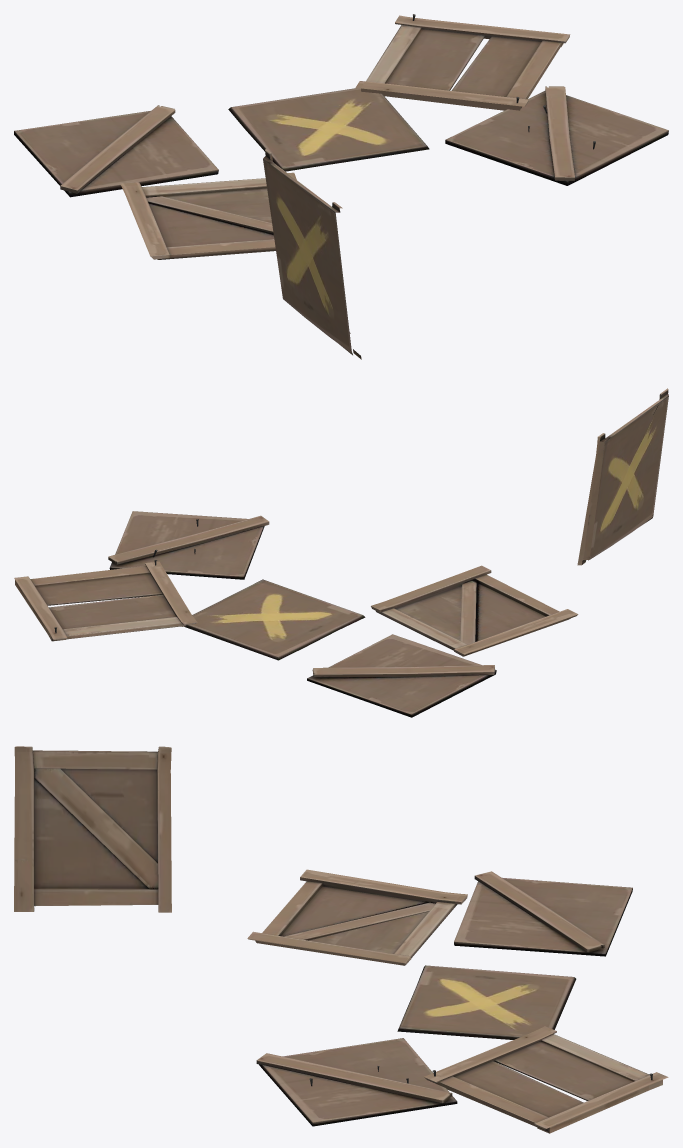
The picture shows the model from 3 angles, top to bottom: view 1: azimuth 30°, elevation 25°; view 2: azimuth 150°, elevation 25°; view 3: azimuth 270°, elevation 25°; orthographic projection. The views are drawn at different scales.
Parts seen in each view (by area): view 1: body0_model0_lod0_mesh0; view 2: body0_model0_lod0_mesh0; view 3: body0_model0_lod0_mesh0.
Boxes of the visible parts, x1,y1,x2,y2 form: body0_model0_lod0_mesh0: (14,14,668,359); body0_model0_lod0_mesh0: (14,388,668,717); body0_model0_lod0_mesh0: (14,746,668,1133).
Bounding box in the file's own units: 262 × 72.93 × 279.
Materials: 1 (1 with a texture image).
